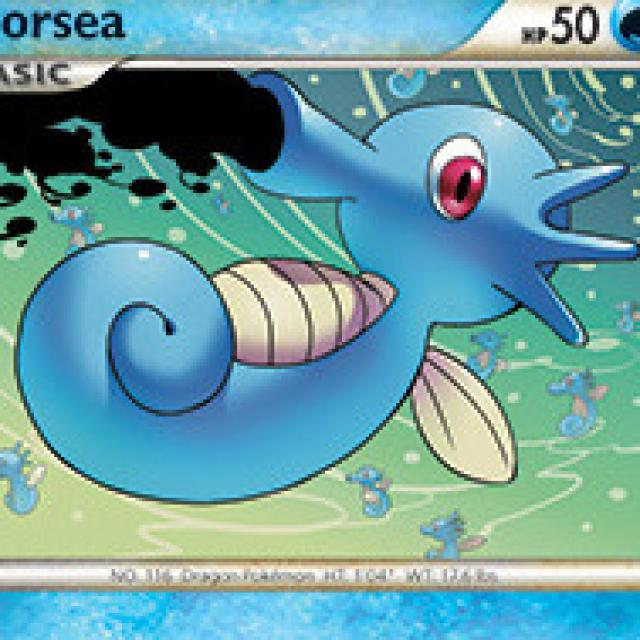Horsea: (32, 86, 585, 505)
